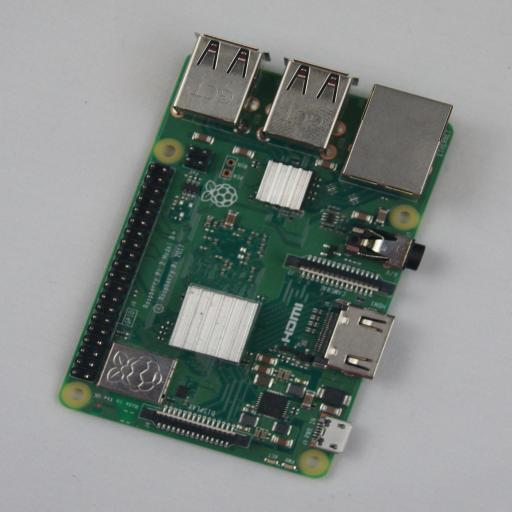Raspberry Pi 3 B-: (58, 34, 454, 478)
